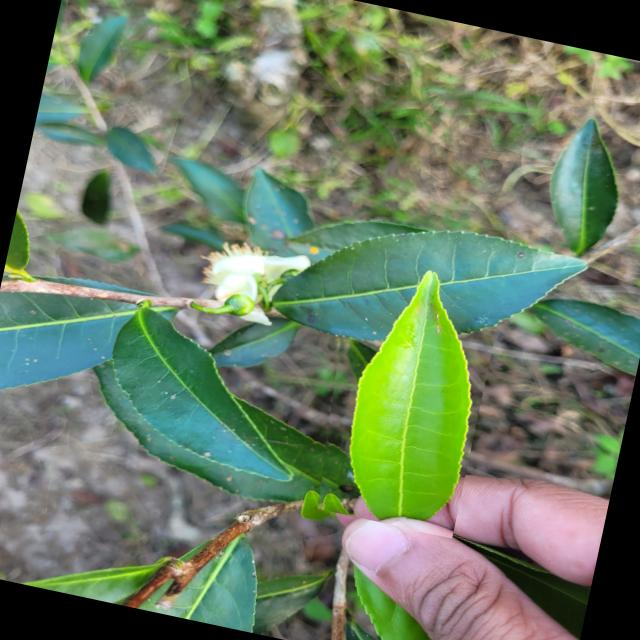Category B(2-4 days): (296, 242, 508, 538)
